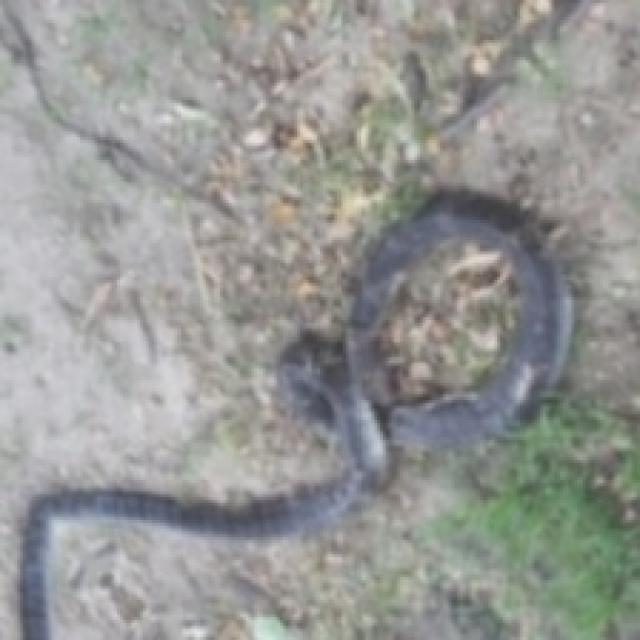king cobra: (23, 191, 571, 637), (366, 243, 517, 409)
